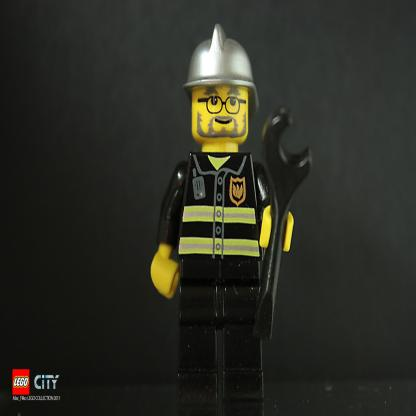Helmet: (181, 37, 260, 160)
